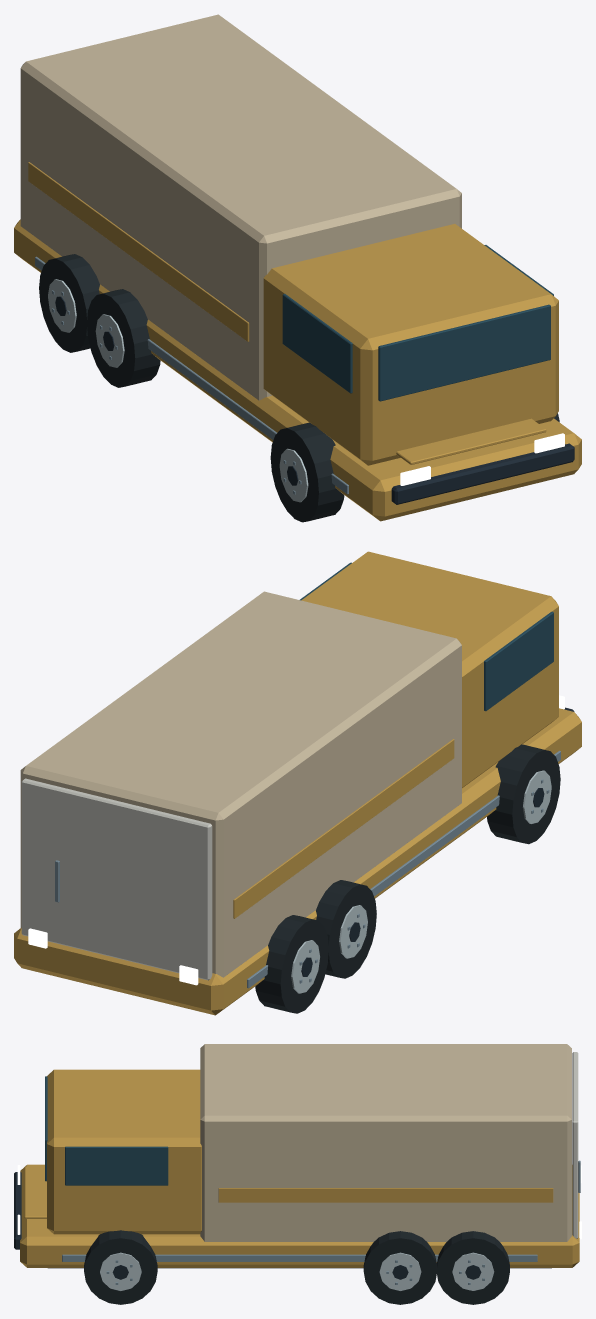
Rendered from vehicles-truck.lod0.glb.
The picture shows the model from 3 angles, top to bottom: view 1: azimuth 30°, elevation 25°; view 2: azimuth 150°, elevation 25°; view 3: azimuth 270°, elevation 25°; orthographic projection. The views are drawn at different scales.
Parts seen in each view (by area): view 1: vehicles-truck__body, vehicles-truck__wheel_steer_0_l, vehicles-truck__wheel_steer_2_l, vehicles-truck__wheel_steer_1_l; view 2: vehicles-truck__body, vehicles-truck__cargo_door, vehicles-truck__wheel_steer_0_l, vehicles-truck__wheel_steer_1_l, vehicles-truck__wheel_steer_2_l; view 3: vehicles-truck__body, vehicles-truck__wheel_steer_0_r, vehicles-truck__wheel_steer_2_r, vehicles-truck__wheel_steer_1_r, vehicles-truck__cargo_door.
Part boxes in pixels (x1,y1,x2,y2): vehicles-truck__body: (14,14,581,521); vehicles-truck__wheel_steer_0_l: (270,422,344,522); vehicles-truck__wheel_steer_2_l: (87,289,160,387); vehicles-truck__wheel_steer_1_l: (39,254,99,352); vehicles-truck__body: (14,551,581,1015); vehicles-truck__cargo_door: (21,778,212,980); vehicles-truck__wheel_steer_0_l: (487,744,560,844); vehicles-truck__wheel_steer_1_l: (255,915,328,1013); vehicles-truck__wheel_steer_2_l: (316,880,376,978); vehicles-truck__body: (14,1044,581,1268); vehicles-truck__wheel_steer_0_r: (84,1230,157,1304); vehicles-truck__wheel_steer_2_r: (363,1231,436,1304); vehicles-truck__wheel_steer_1_r: (436,1231,509,1304); vehicles-truck__cargo_door: (572,1052,580,1238).
Size of the model in its own units: 2.85 by 2.59 by 7.41.
